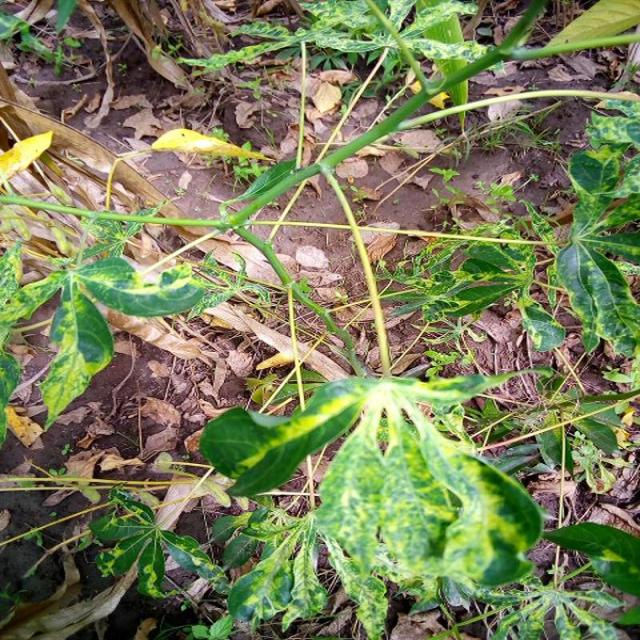cassava leaf: (198, 368, 544, 636)
